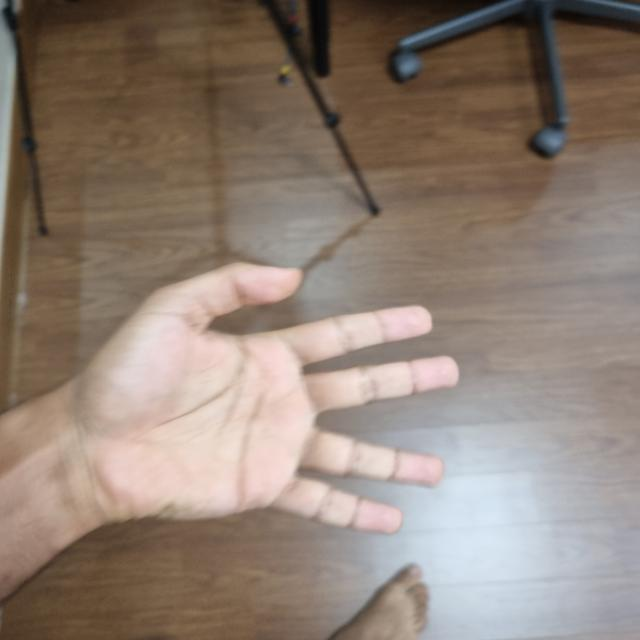Paper: (65, 270, 449, 527)
